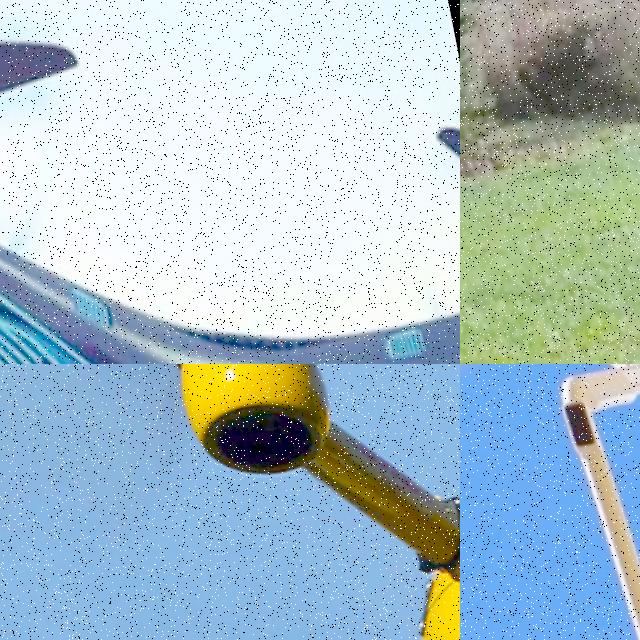drone: (0, 0, 460, 364), (0, 364, 460, 640), (460, 364, 640, 640)
